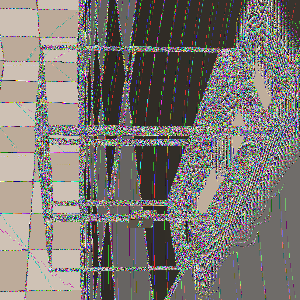Rack: (23, 23, 267, 257)
